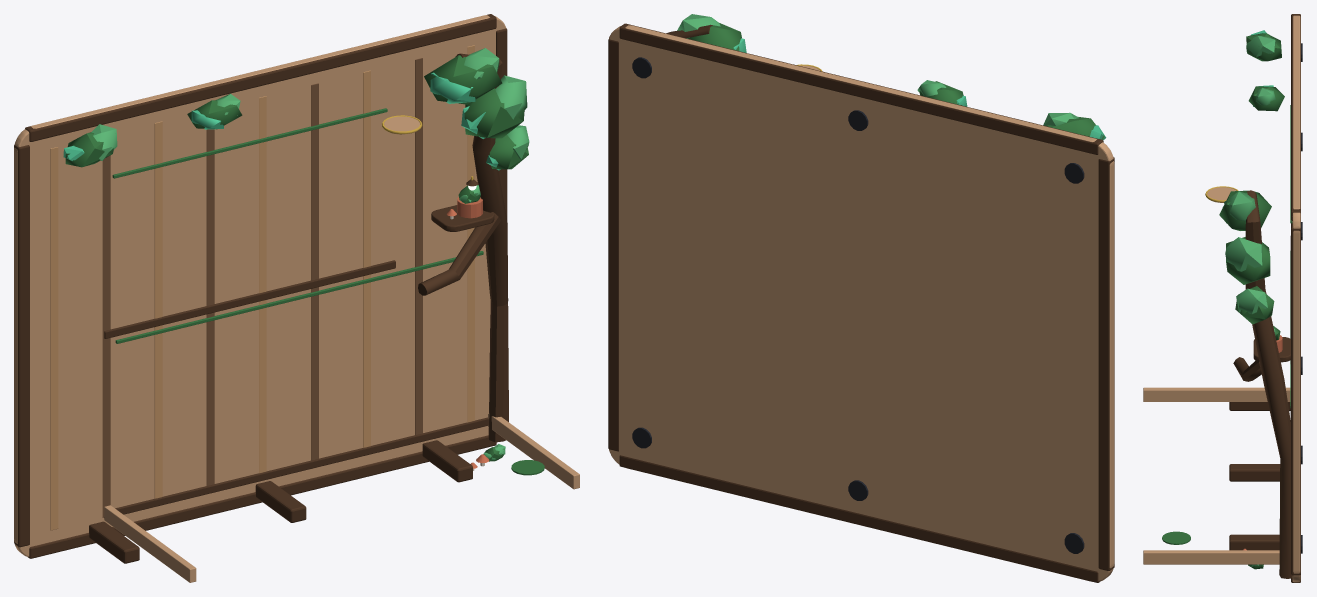
The model's file is WallHabitat_Backplate_Compact.fbx.
3 views of the same model, side by side, from view 1: azimuth 30°, elevation 25°; view 2: azimuth 150°, elevation 25°; view 3: azimuth 270°, elevation 25° (orthographic). The views are drawn at different scales.
Parts seen in each view (by area): view 1: WallHabitat_Backplate_Compact_Chassis; view 2: WallHabitat_Backplate_Compact_Chassis; view 3: WallHabitat_Backplate_Compact_Chassis.
Part boxes in pixels (x1,y1,x2,y2): WallHabitat_Backplate_Compact_Chassis: (14, 14, 579, 582); WallHabitat_Backplate_Compact_Chassis: (608, 14, 1114, 582); WallHabitat_Backplate_Compact_Chassis: (1143, 14, 1302, 582).
Size of the model in its own units: 74 by 62 by 24.
